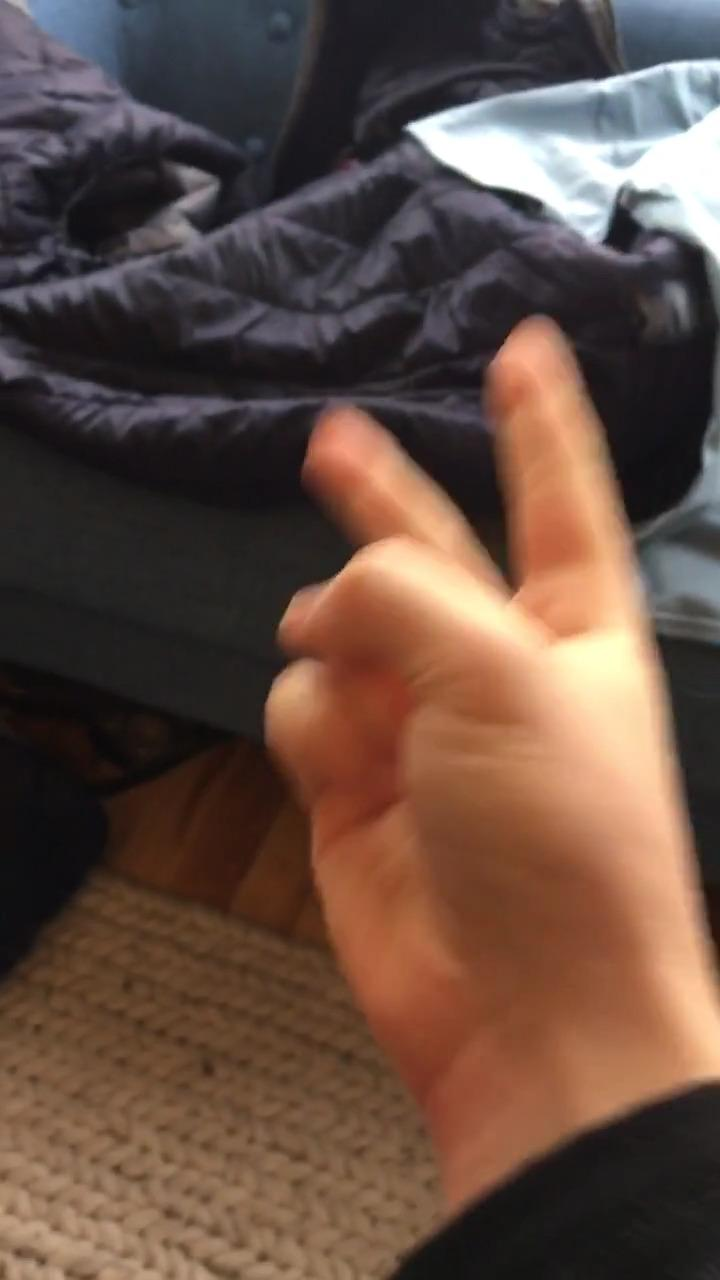Scissors: (264, 316, 684, 1089)
